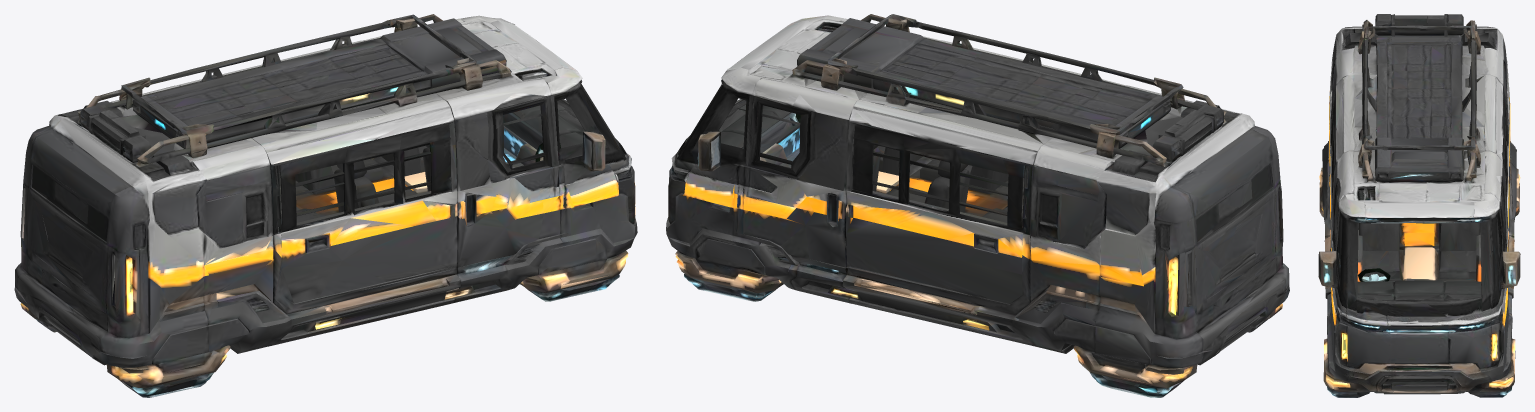
File: hovercar_b.glb
The picture shows the model from 3 angles, left to right: view 1: azimuth 30°, elevation 25°; view 2: azimuth 150°, elevation 25°; view 3: azimuth 270°, elevation 25°; orthographic projection. The views are drawn at different scales.
Parts seen in each view (by area): view 1: hovercar_b; view 2: hovercar_b; view 3: hovercar_b.
Part boxes in pixels (x1,y1,x2,y2): hovercar_b: (14, 14, 637, 397); hovercar_b: (666, 14, 1289, 397); hovercar_b: (1318, 14, 1520, 397).
Bounding box in the file's own units: 5.99 × 2.53 × 2.25.
1 material, 1 textured.
